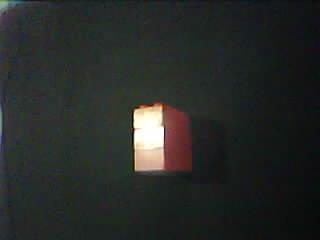lego: (132, 99, 193, 174)
